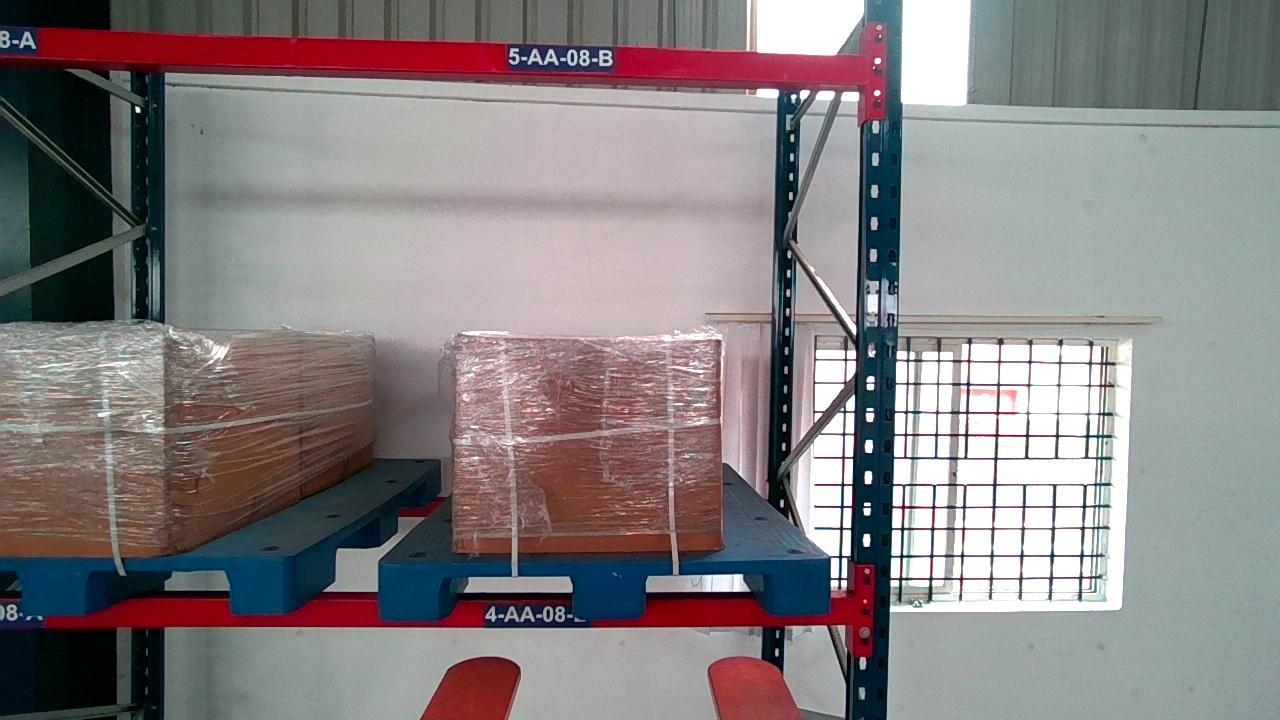h_rack: (0, 26, 866, 86), (0, 594, 851, 625)
small_pallet: (379, 558, 831, 618), (2, 560, 289, 613)
